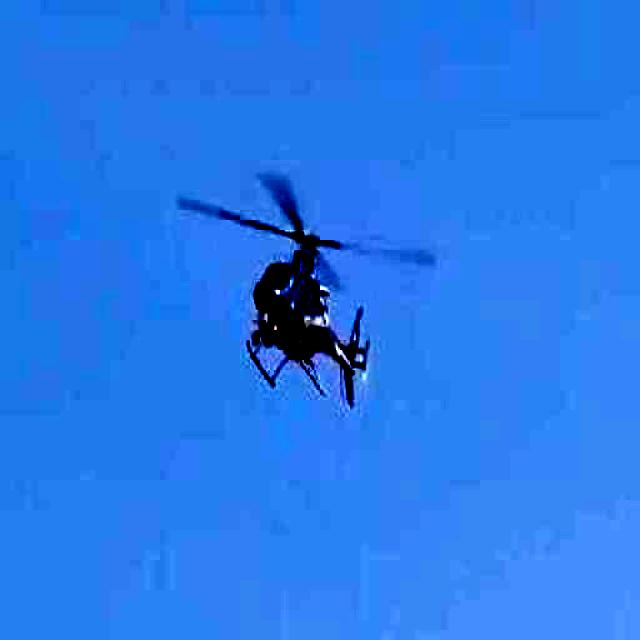drone: (159, 182, 449, 426)
